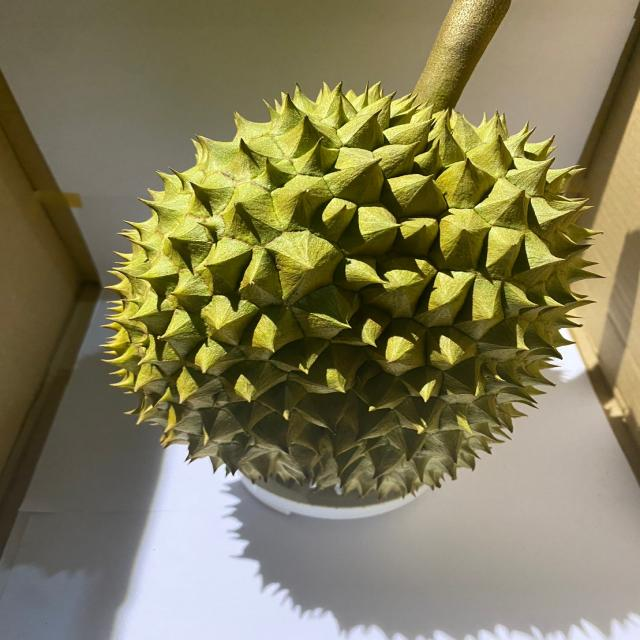immature: (96, 75, 608, 502)
